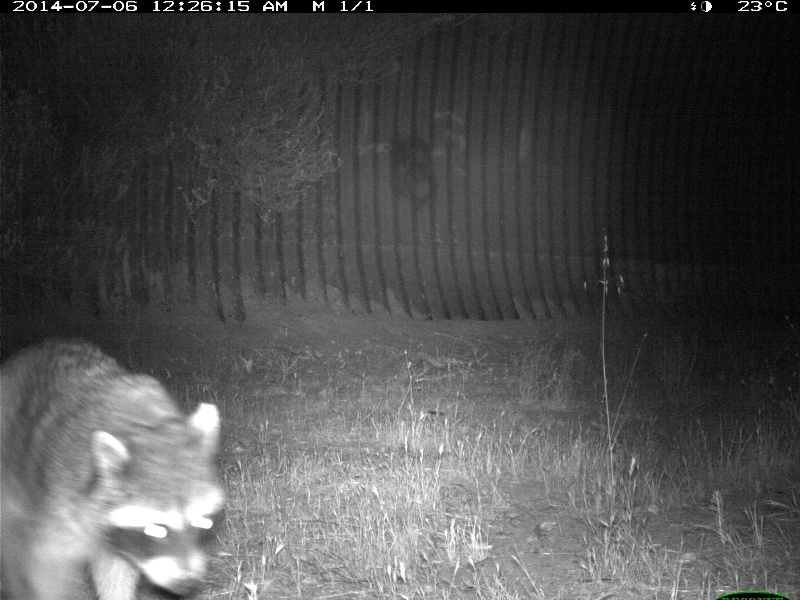raccoon: (2, 328, 230, 596)
